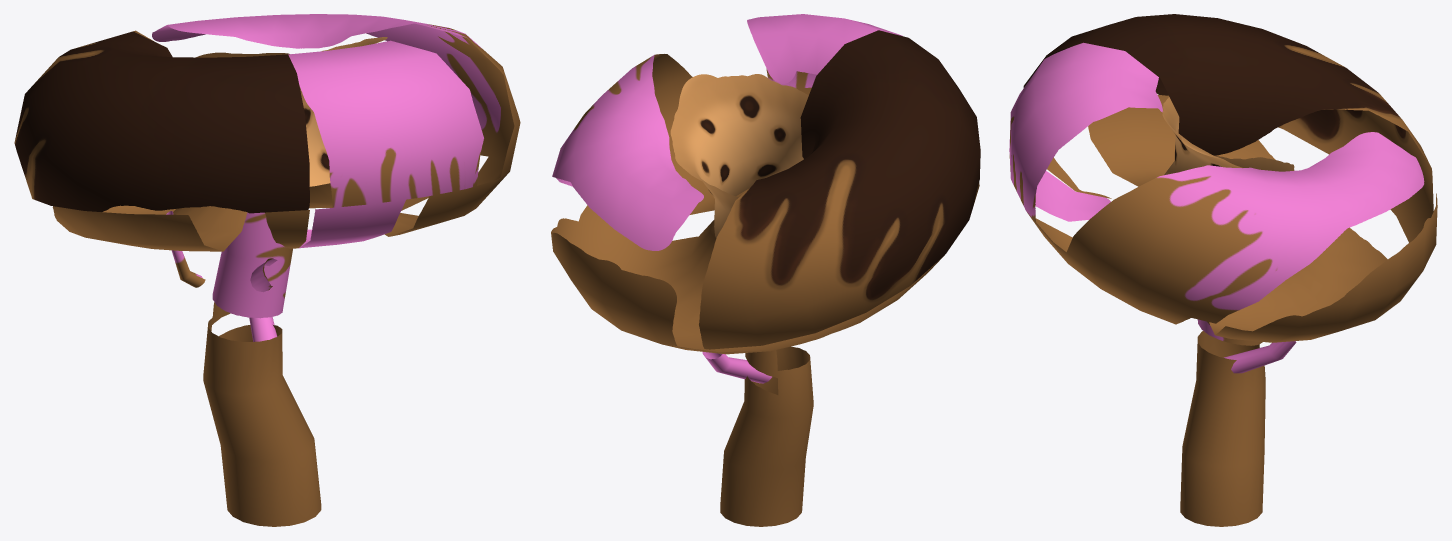
Rendered from Donut_Tree.FBX.
3 renders of one model, left to right at view 1: azimuth 30°, elevation 25°; view 2: azimuth 150°, elevation 25°; view 3: azimuth 270°, elevation 25°, orthographic. The views are drawn at different scales.
Parts seen in each view (by area): view 1: Donut_Tree; view 2: Donut_Tree; view 3: Donut_Tree.
Boxes of the visible parts, x1=… form: Donut_Tree: x1=14, y1=14, x2=520, y2=526; Donut_Tree: x1=551, y1=14, x2=980, y2=526; Donut_Tree: x1=1009, y1=14, x2=1437, y2=526.
Size of the model in its own units: 5.95 by 6.57 by 5.76.
Materials: 1 (1 with a texture image).
